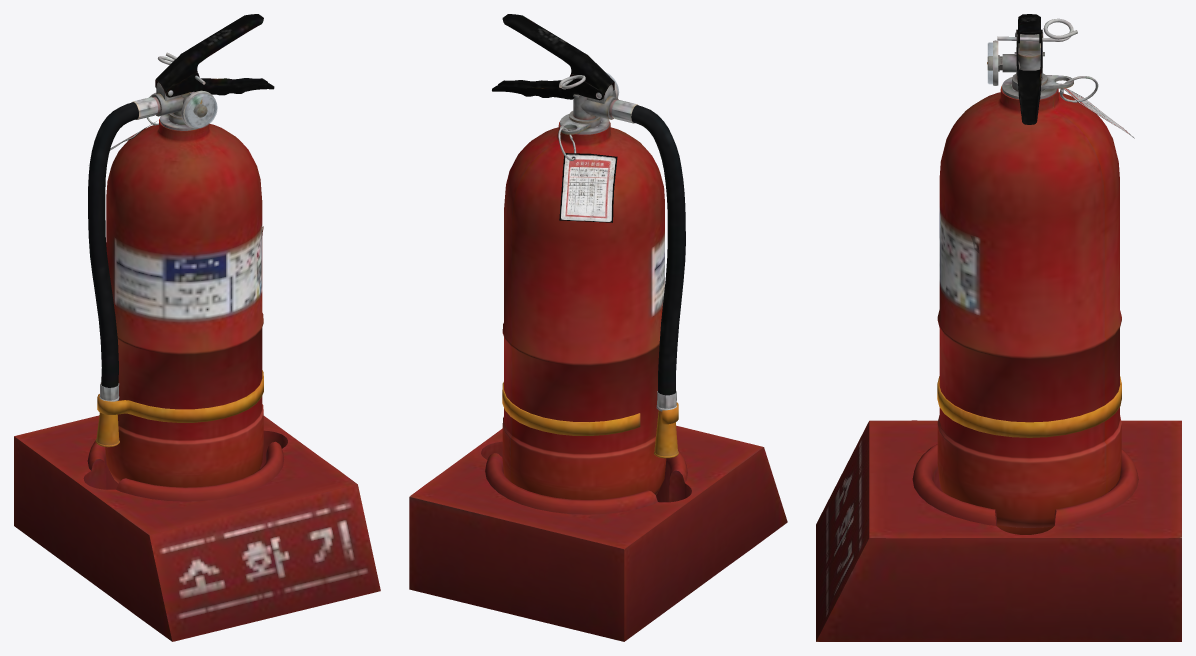
Rendered from extinguisher.gltf.
3 renders of one model, left to right at view 1: azimuth 30°, elevation 25°; view 2: azimuth 150°, elevation 25°; view 3: azimuth 270°, elevation 25°, orthographic. The views are drawn at different scales.
Parts seen in each view (by area): view 1: 02_low, 02_low_1; view 2: 02_low, 02_low_2; view 3: 02_low.
Part boxes in pixels (box(x1,y1,x2,y2)): 02_low: box(14, 14, 380, 641); 02_low_1: box(184, 94, 217, 128); 02_low: box(409, 14, 787, 641); 02_low_2: box(559, 153, 617, 222); 02_low: box(816, 14, 1181, 641).
Size of the model in its own units: 0.2799 by 0.6593 by 0.3675.
Materials: 3 (3 with a texture image).
